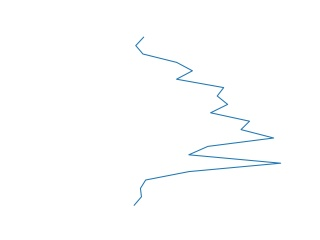floodSwamp: (129, 38, 288, 206)
